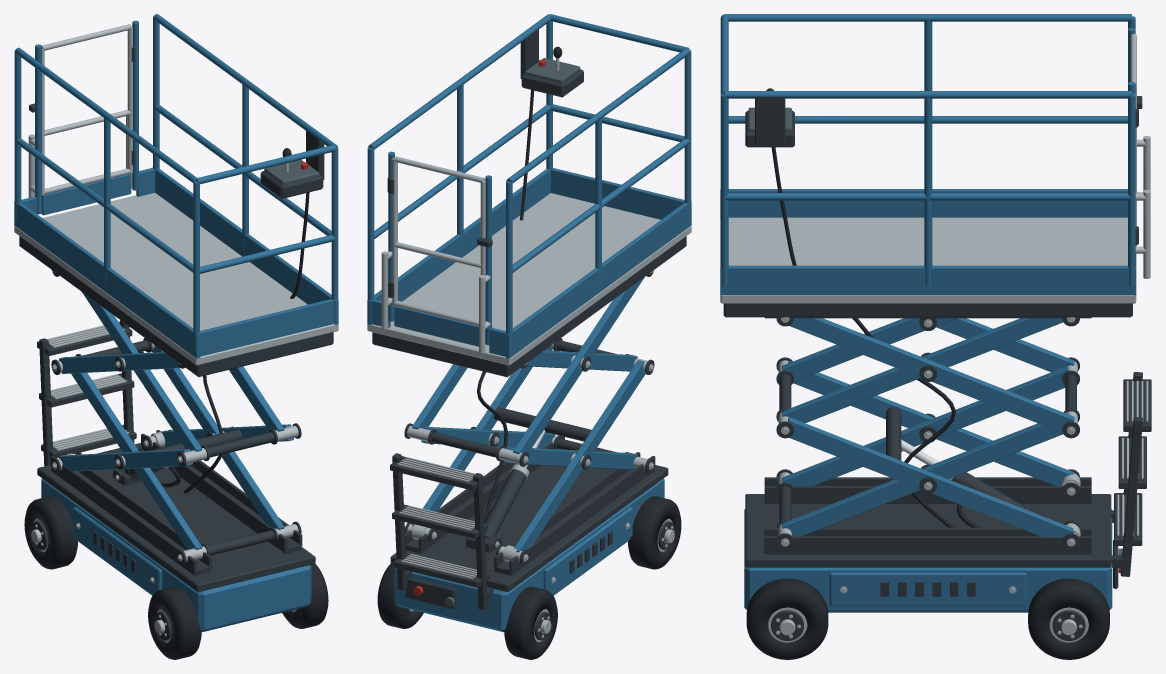
The model's file is city-mobile-scissor-lift.glb.
3 renders of one model, left to right at view 1: azimuth 30°, elevation 25°; view 2: azimuth 150°, elevation 25°; view 3: azimuth 270°, elevation 25°, orthographic. The views are drawn at different scales.
Parts seen in each view (by area): view 1: Assembly | Deep blue enamel, Assembly | Graphite steel frame, Assembly | Satin plated steel, Assembly | Charcoal rubber, Assembly | Blank control face; view 2: Assembly | Deep blue enamel, Assembly | Graphite steel frame, Assembly | Satin plated steel, Assembly | Charcoal rubber, Assembly | Blank control face; view 3: Assembly | Deep blue enamel, Assembly | Graphite steel frame, Assembly | Satin plated steel, Assembly | Charcoal rubber.
Part boxes in pixels (x1,y1,x2,y2): Assembly | Deep blue enamel: (14, 14, 338, 632); Assembly | Graphite steel frame: (19, 47, 333, 640); Assembly | Satin plated steel: (14, 24, 338, 642); Assembly | Charcoal rubber: (24, 148, 328, 659); Assembly | Blank control face: (264, 159, 319, 184); Assembly | Deep blue enamel: (367, 14, 691, 632); Assembly | Graphite steel frame: (372, 29, 686, 640); Assembly | Satin plated steel: (367, 58, 691, 642); Assembly | Charcoal rubber: (377, 46, 681, 659); Assembly | Blank control face: (445, 58, 580, 606); Assembly | Deep blue enamel: (720, 14, 1136, 612); Assembly | Graphite steel frame: (723, 96, 1151, 640); Assembly | Satin plated steel: (720, 33, 1150, 642); Assembly | Charcoal rubber: (746, 88, 1109, 659).
Size of the model in its own units: 0.9783 by 2.9 by 1.99.
